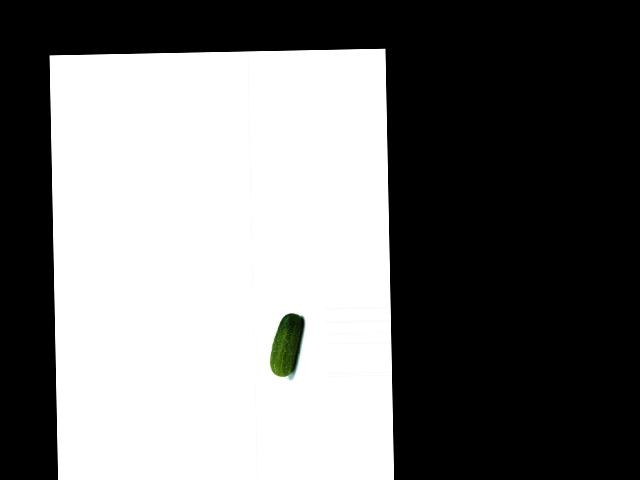cucumber: (269, 313, 304, 376)
